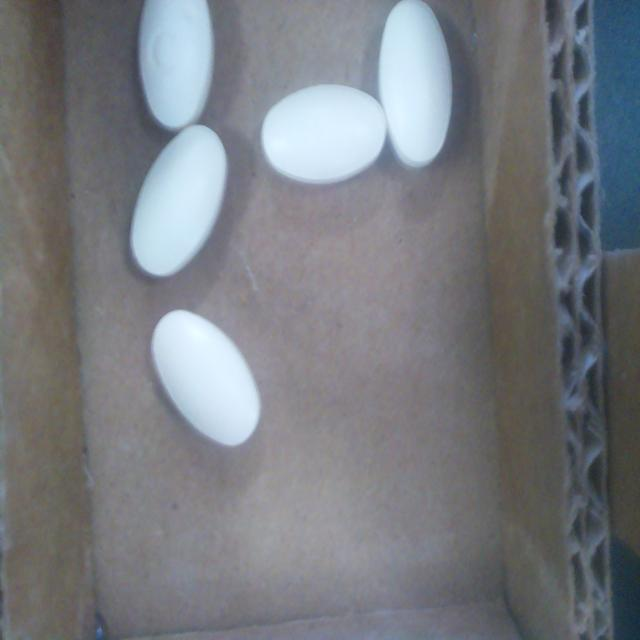pill: (130, 124, 228, 277), (151, 310, 261, 446), (378, 0, 453, 167), (261, 85, 387, 184), (138, 0, 214, 131)
